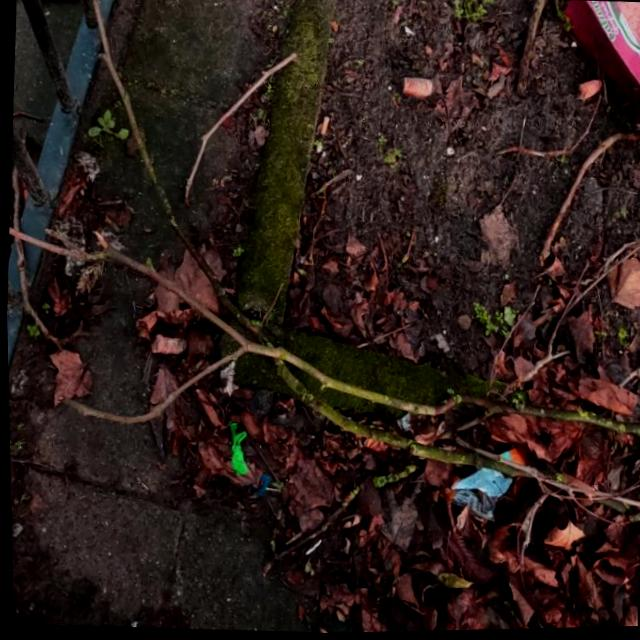Paper: (554, 1, 640, 145)
Plastic: (444, 445, 527, 529)
